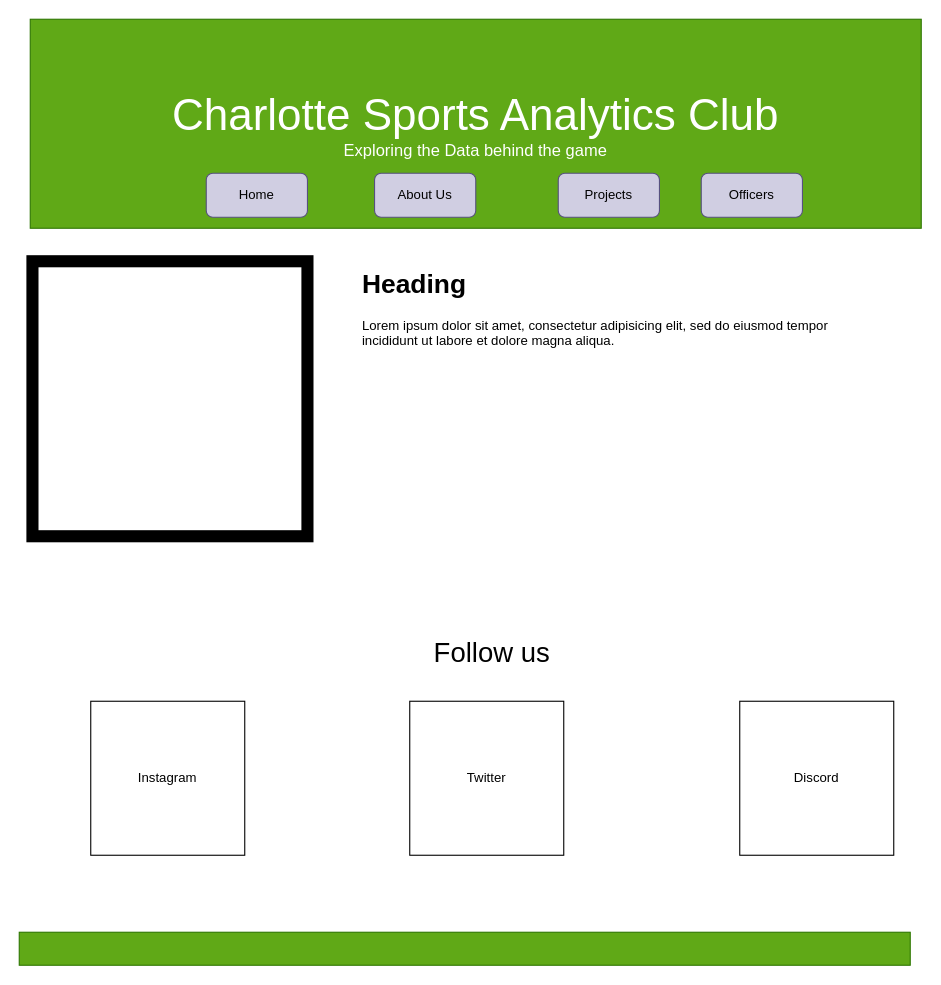
Image size: 941x985. Some labels were removed from this diagram. Each missing label, with the centre of its shape:
"2026 Charlotte Sports Analytics Club | HTML | CSS | Contact Info" goes at (464,948).
"Image" goes at (169,398).
